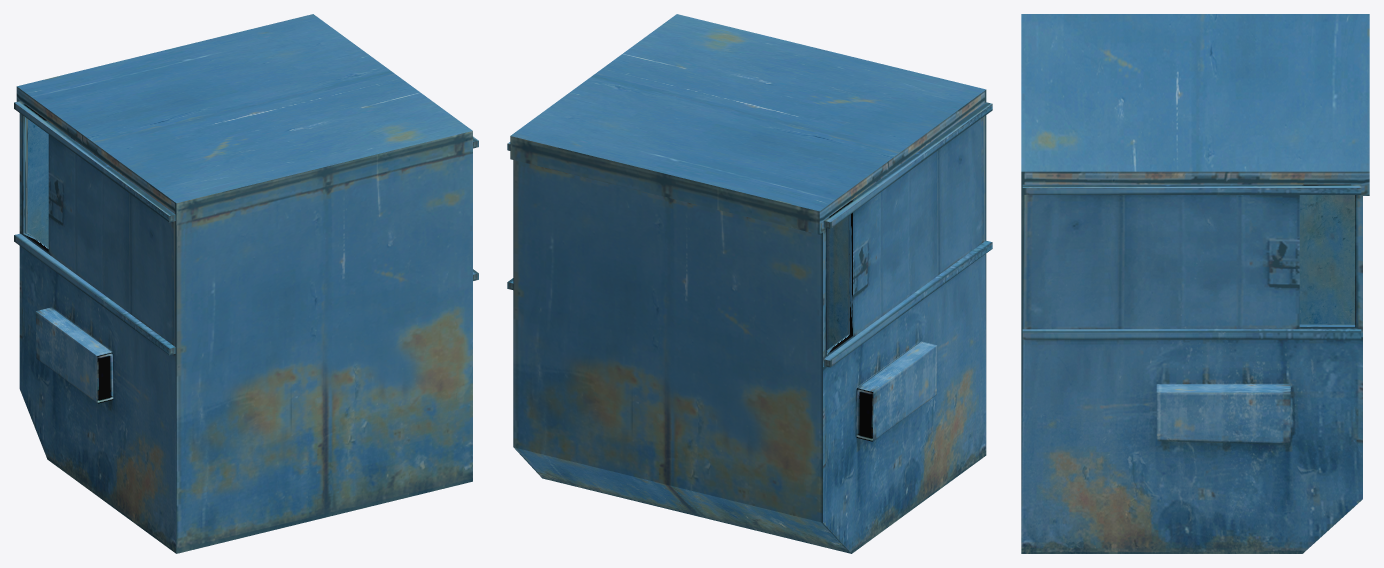
Rendered from TrashBox01.FBX.
3 views of the same model, side by side, from view 1: azimuth 30°, elevation 25°; view 2: azimuth 150°, elevation 25°; view 3: azimuth 270°, elevation 25° (orthographic). The views are drawn at different scales.
Parts seen in each view (by area): view 1: TrashBox01; view 2: TrashBox01; view 3: TrashBox01.
Boxes of the visible parts, <box> form: TrashBox01: <box>14,14,478,553</box>; TrashBox01: <box>507,14,992,553</box>; TrashBox01: <box>1021,14,1369,553</box>.
Size of the model in its own units: 60.24 by 61.24 by 50.55.
